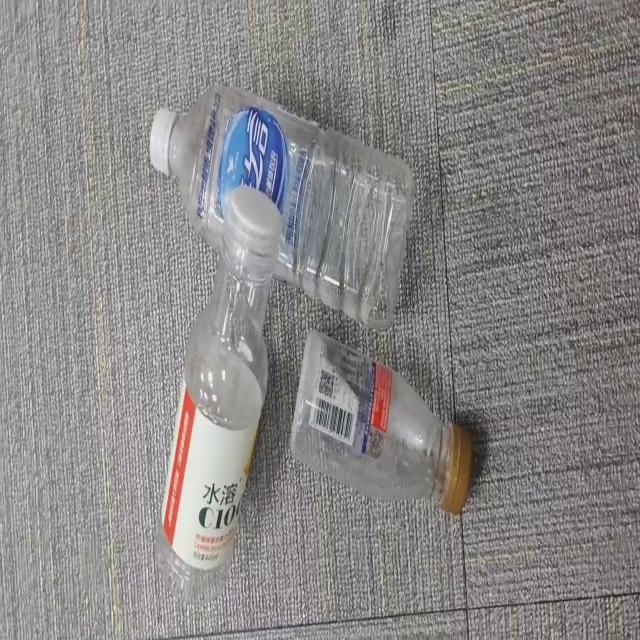bottle: (150, 83, 417, 327), (152, 184, 282, 601), (292, 331, 471, 514)
